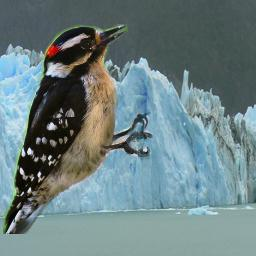Woodpecker: (3, 24, 153, 234)
